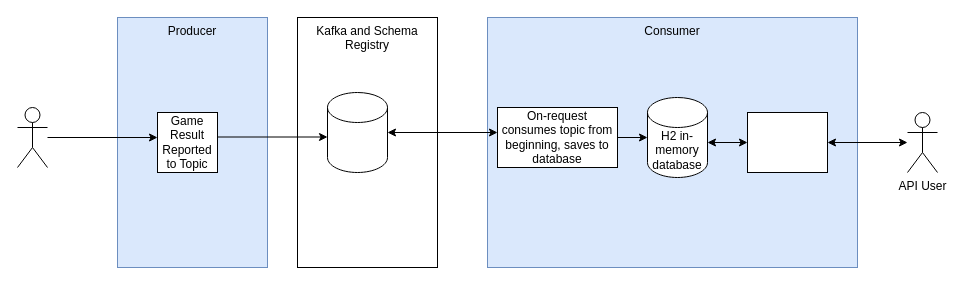
Image size: 964x285. Some labels were removed from this diagram. Here are the shapes that lost their labels. From the top down, the centre of each, then its label:
At point 32,137: "User".
At point 357,132: "Kafka Topic".
At point 787,142: "Controller".
